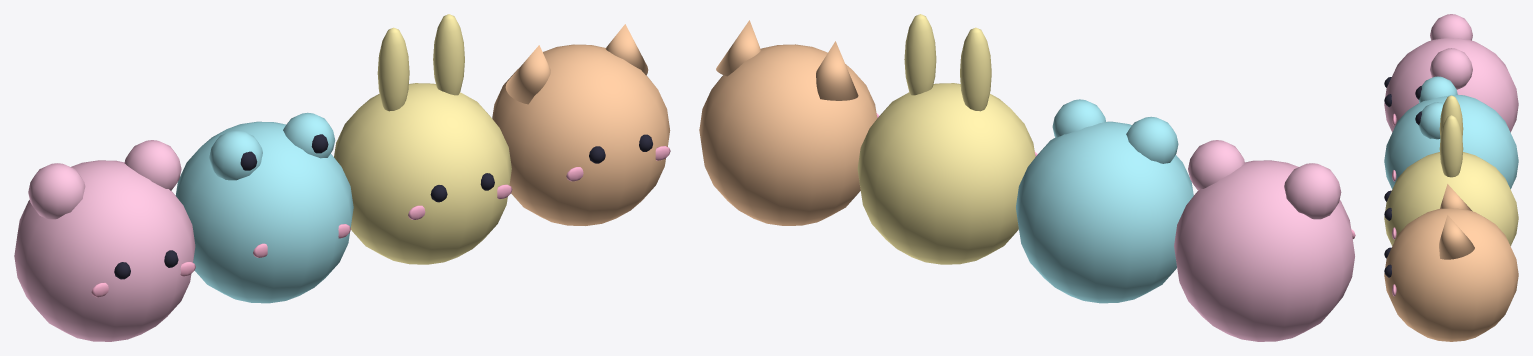
Rendered from cute_blobs.glb.
The picture shows the model from 3 angles, left to right: view 1: azimuth 30°, elevation 25°; view 2: azimuth 150°, elevation 25°; view 3: azimuth 270°, elevation 25°; orthographic projection. The views are drawn at different scales.
Parts seen in each view (by area): view 1: CuteBlob_Bunny, CuteBlob_PinkyBear, CuteBlob_NekoCat, CuteBlob_Froggo, Sphere.005, Sphere.013, Sphere.012, Sphere.004, Sphere.008, Cone.001, Sphere.006, Cone; view 2: CuteBlob_Bunny, CuteBlob_Froggo, CuteBlob_PinkyBear, CuteBlob_NekoCat, Sphere.005, Sphere.013, Sphere.012, Sphere.004, Sphere.008, Cone.001, Sphere.006, Cone; view 3: CuteBlob_NekoCat, CuteBlob_Bunny, CuteBlob_Froggo, CuteBlob_PinkyBear, Sphere.004, Sphere.012, Cone, Sphere.005, Sphere.006, Sphere.008, Sphere.013, Cone.001.
Boxes of the visible parts, x1,y1,x2,y2 form: CuteBlob_Bunny: (334,83,511,264); CuteBlob_PinkyBear: (14,160,195,341); CuteBlob_NekoCat: (492,44,670,225); CuteBlob_Froggo: (175,121,353,303); Sphere.005: (28,163,85,219); Sphere.013: (377,27,409,111); Sphere.012: (433,14,464,95); Sphere.004: (124,140,181,190); Sphere.008: (209,130,262,180); Cone.001: (505,45,550,104); Sphere.006: (283,112,335,158); Cone: (605,24,648,75); CuteBlob_Bunny: (857,83,1035,264); CuteBlob_Froggo: (1016,121,1193,303); CuteBlob_PinkyBear: (1174,160,1354,341); CuteBlob_NekoCat: (699,44,877,225); Sphere.005: (1284,163,1341,219); Sphere.013: (960,27,991,111); Sphere.012: (904,14,936,95); Sphere.004: (1188,140,1244,190); Sphere.008: (1126,116,1178,163); Cone.001: (816,41,858,100); Sphere.006: (1052,99,1105,137); Cone: (716,20,760,76); CuteBlob_NekoCat: (1384,208,1518,341); CuteBlob_Bunny: (1384,152,1518,245); CuteBlob_Froggo: (1384,94,1518,189); CuteBlob_PinkyBear: (1384,38,1518,132); Sphere.004: (1430,48,1472,89); Sphere.012: (1439,115,1463,177); Cone: (1439,215,1474,259); Sphere.005: (1430,14,1472,40); Sphere.006: (1418,102,1443,139); Sphere.008: (1418,76,1457,102); Sphere.013: (1439,95,1463,137); Cone.001: (1440,184,1472,211).
Size of the model in its own units: 8 by 2.85 by 2.
